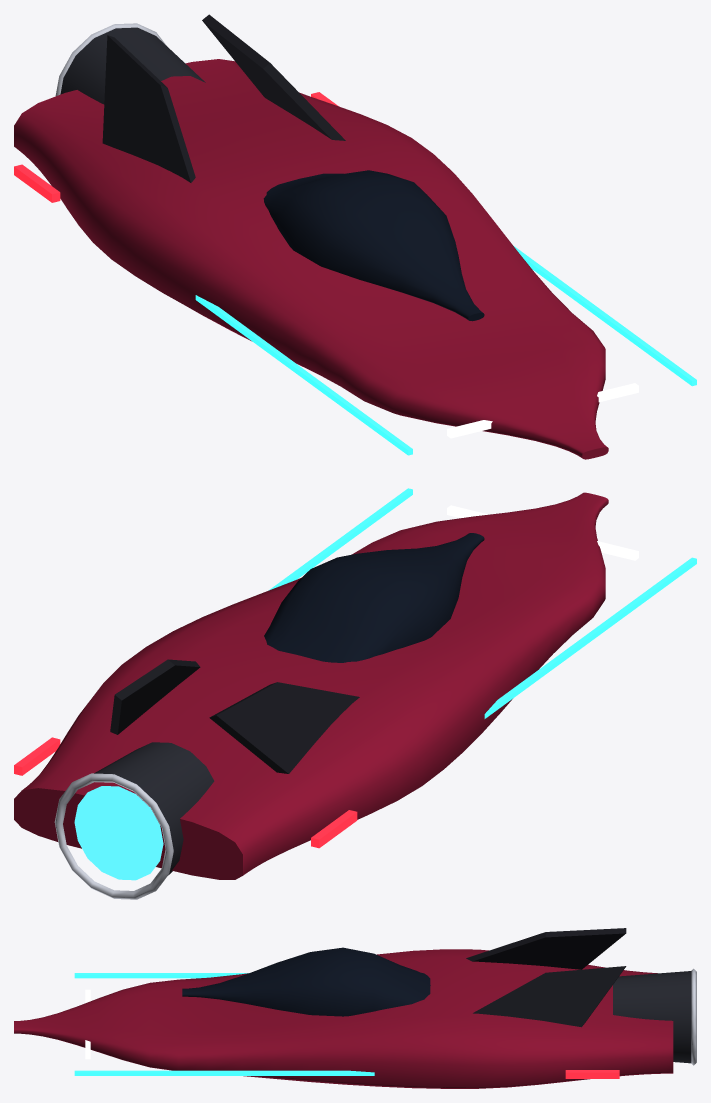
Rendered from tr_glider.glb.
The picture shows the model from 3 angles, top to bottom: view 1: azimuth 30°, elevation 25°; view 2: azimuth 150°, elevation 25°; view 3: azimuth 270°, elevation 25°; orthographic projection. The views are drawn at different scales.
Visible parts, largest first — view 1: paint, glass, paint2, trim, neon, light_head, light_tail, chrome; view 2: paint, glass, paint2, thrust, trim, neon, chrome, light_tail, light_head; view 3: paint, glass, paint2, trim, neon, chrome, light_tail.
Boxes of the visible parts, x1,y1,x2,y2 form: paint: [14, 59, 608, 459]; glass: [263, 170, 484, 321]; paint2: [102, 14, 345, 182]; trim: [60, 27, 205, 104]; neon: [195, 245, 696, 455]; light_head: [447, 383, 638, 438]; light_tail: [14, 92, 338, 202]; chrome: [55, 23, 165, 95]; paint: [14, 492, 608, 879]; glass: [264, 533, 484, 662]; paint2: [110, 659, 359, 773]; thrust: [74, 786, 163, 880]; trim: [94, 742, 214, 875]; neon: [268, 488, 696, 718]; chrome: [54, 773, 173, 899]; light_tail: [14, 737, 357, 848]; light_head: [447, 505, 638, 560]; paint: [14, 949, 673, 1088]; glass: [182, 947, 430, 1016]; paint2: [466, 928, 626, 1027]; trim: [613, 971, 691, 1063]; neon: [74, 973, 374, 1075]; chrome: [691, 968, 696, 1065]; light_tail: [565, 1070, 619, 1078].
Size of the model in its own units: 1.88 by 0.9376 by 5.07.
